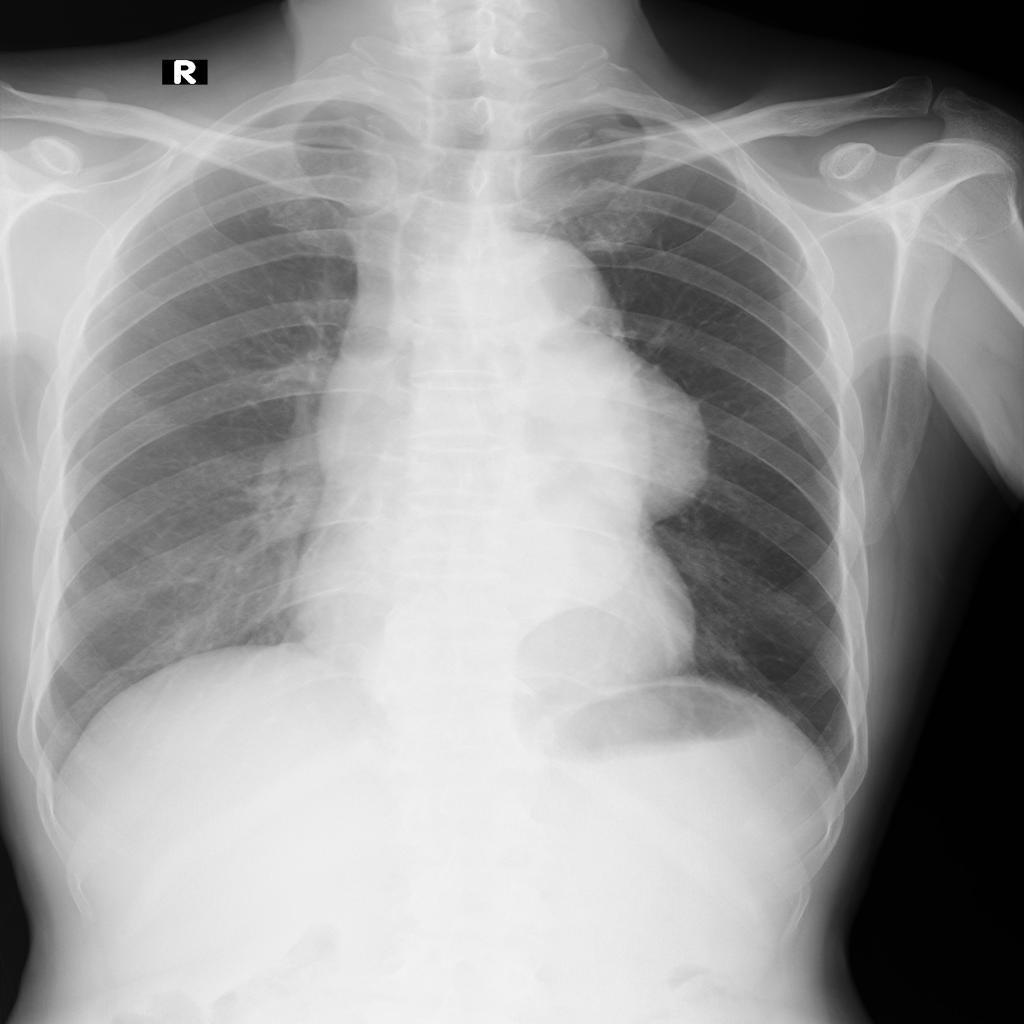Nodule: (535, 335, 713, 538)
